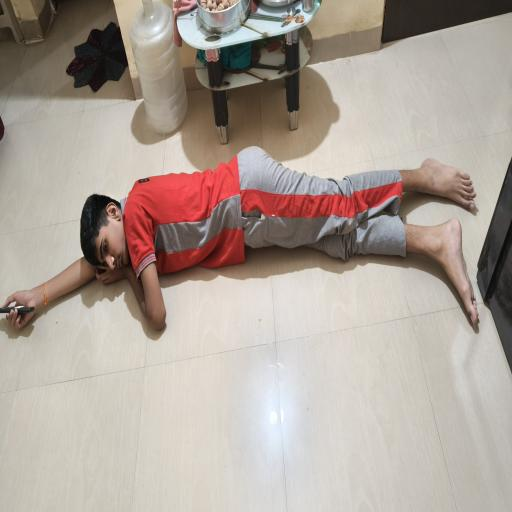survivor: (2, 146, 480, 330)
